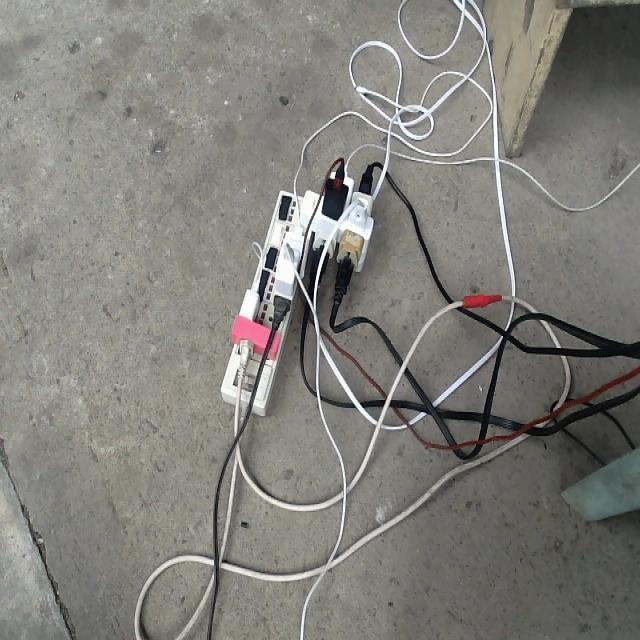-: (214, 156, 373, 412)
